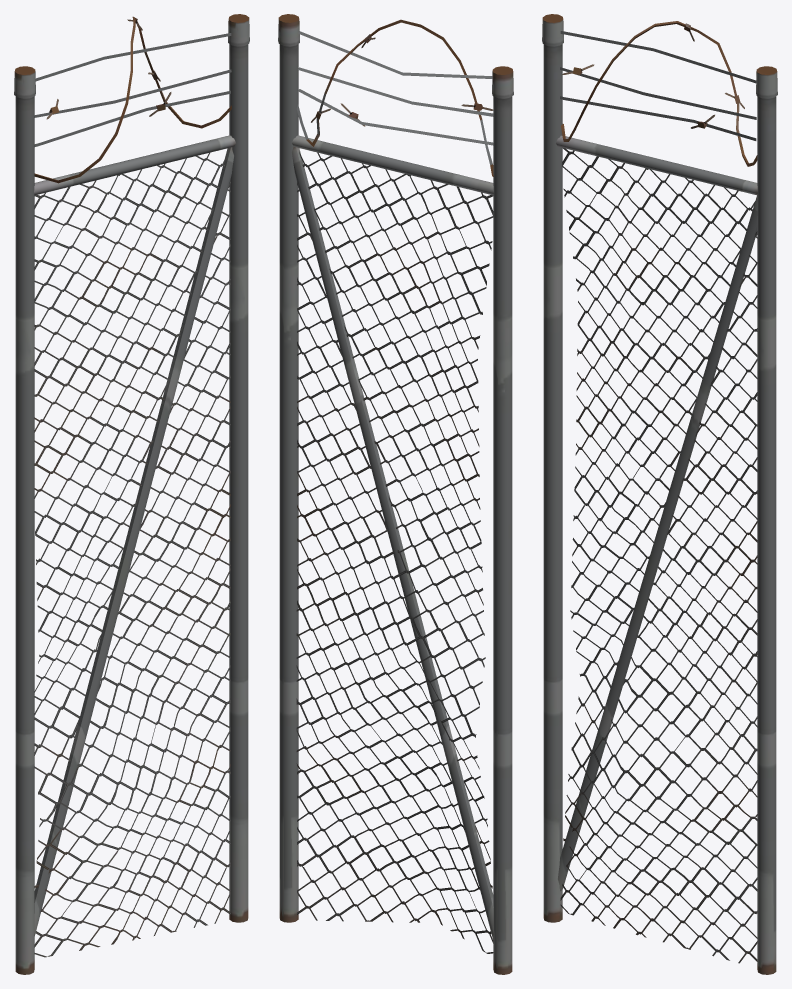
3 views of the same model, side by side, from view 1: azimuth 30°, elevation 25°; view 2: azimuth 150°, elevation 25°; view 3: azimuth 330°, elevation 25° (orthographic).
Parts seen in each view (by area): view 1: body0_model0_lod0_mesh0, body0_model0_lod0_mesh1; view 2: body0_model0_lod0_mesh0, body0_model0_lod0_mesh1; view 3: body0_model0_lod0_mesh0, body0_model0_lod0_mesh1.
Part boxes in pixels (x1,y1,x2,y2): body0_model0_lod0_mesh0: (14,14,249,974); body0_model0_lod0_mesh1: (34,151,230,957); body0_model0_lod0_mesh0: (278,14,513,974); body0_model0_lod0_mesh1: (296,151,493,953); body0_model0_lod0_mesh0: (542,14,777,974); body0_model0_lod0_mesh1: (560,148,757,963).
Bounding box in the file's own units: 79.84 × 303 × 35.59.
2 materials, 2 textured.
